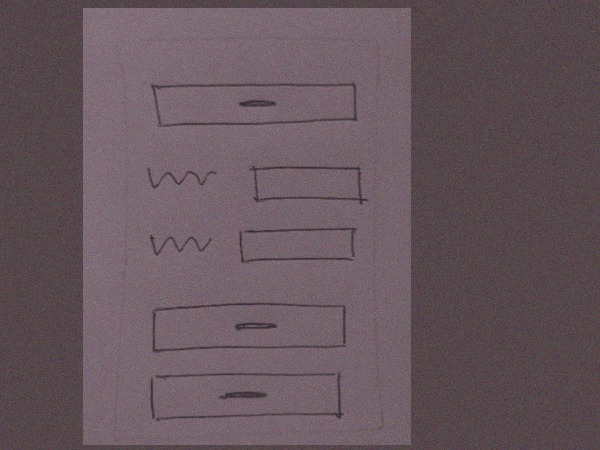button: (147, 77, 361, 140), (149, 297, 349, 358), (144, 370, 349, 425)
text: (144, 156, 221, 194), (146, 227, 216, 262)
text_input: (244, 160, 370, 210), (232, 223, 362, 267)
